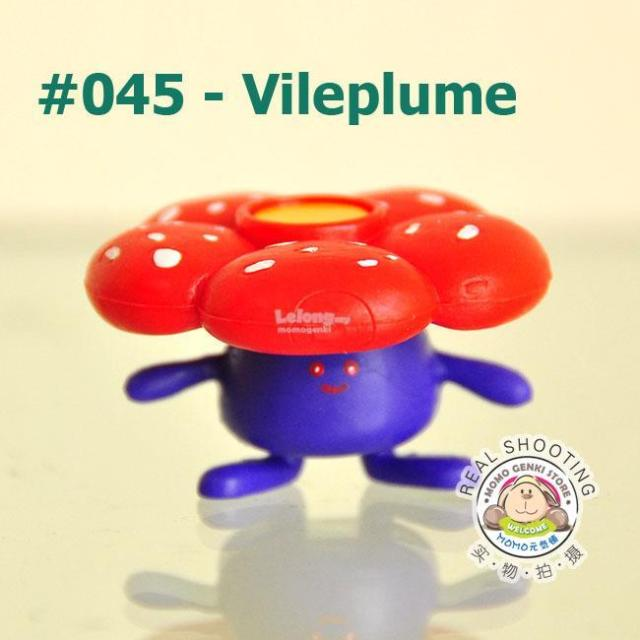Vileplume: (94, 179, 552, 498)
